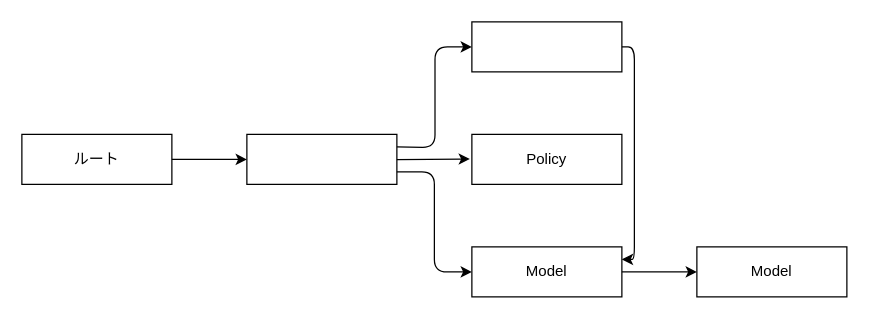
Some shapes in this 869 by 319 pixel diagram are drawn without their labels. Here are the shapes that lost their labels. From the top down, the centre of each, then its label:
At point (546, 46): "View".
At point (321, 158): "Controller".
